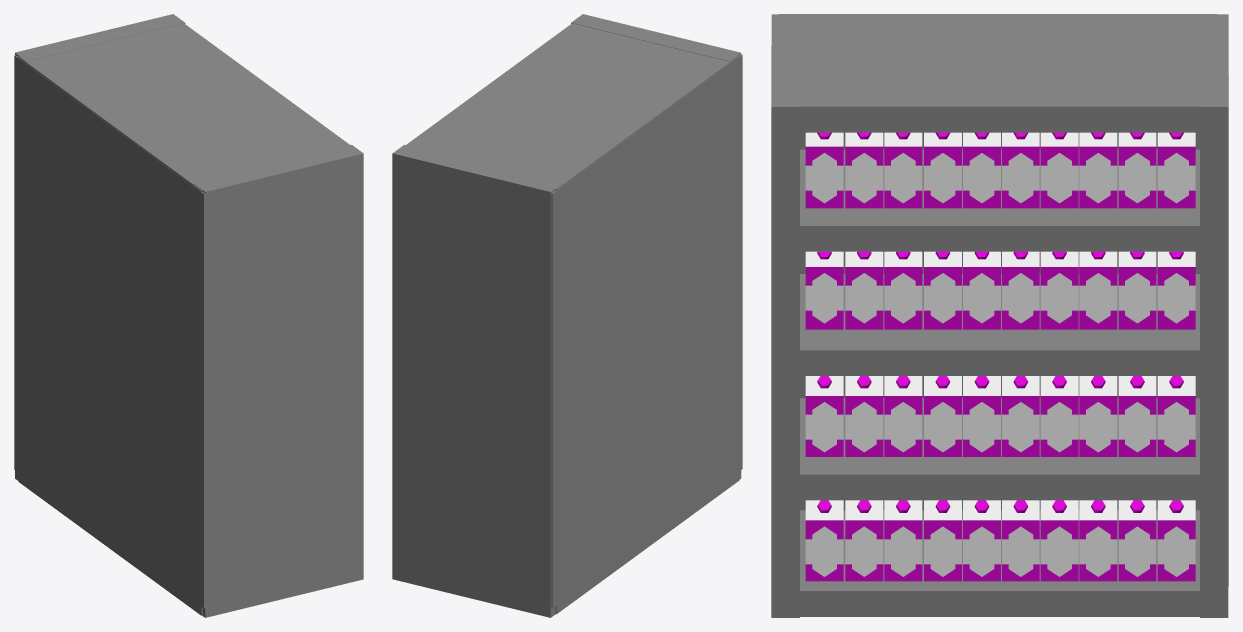
File: pink_milk_shelf.gltf
3 renders of one model, left to right at view 1: azimuth 30°, elevation 25°; view 2: azimuth 150°, elevation 25°; view 3: azimuth 270°, elevation 25°, orthographic. The views are drawn at different scales.
Visible parts, largest first — view 1: Cube.003; view 2: Cube.003; view 3: Cube.003, carton.025, carton.023, carton.005, carton.021, carton.024, carton.022, carton.002, carton.020.
Part boxes in pixels (left/top/right/bottom): Cube.003: left=14, top=14, right=363, bottom=617; Cube.003: left=392, top=14, right=742, bottom=617; Cube.003: left=771, top=14, right=1228, bottom=617; carton.025: left=845, top=500, right=1195, bottom=581; carton.023: left=845, top=376, right=1195, bottom=456; carton.005: left=845, top=251, right=1195, bottom=329; carton.021: left=845, top=132, right=1195, bottom=208; carton.024: left=805, top=500, right=843, bottom=581; carton.022: left=805, top=376, right=843, bottom=456; carton.002: left=805, top=251, right=843, bottom=329; carton.020: left=805, top=132, right=843, bottom=208.
Bounding box in the file's own units: 4.03 × 10.28 × 8.34.
